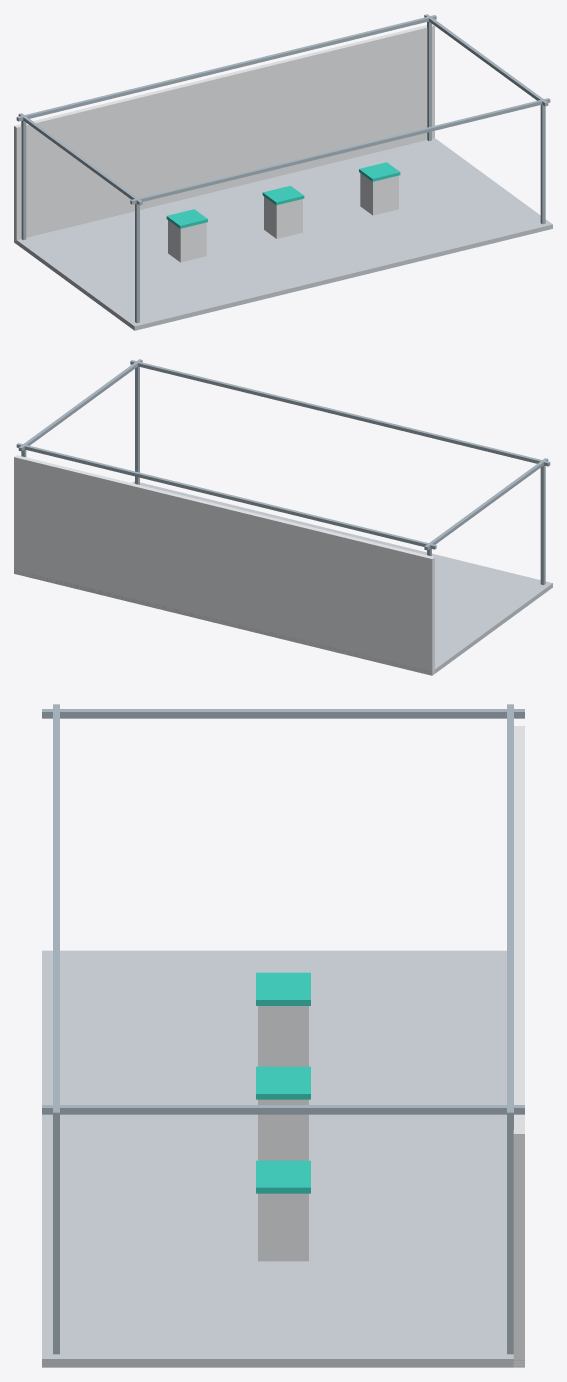
3 renders of one model, top to bottom at view 1: azimuth 30°, elevation 25°; view 2: azimuth 150°, elevation 25°; view 3: azimuth 270°, elevation 25°, orthographic. The views are drawn at different scales.
Visible parts, largest first — view 1: Exhibition Booth Concept; view 2: Exhibition Booth Concept; view 3: Exhibition Booth Concept.
Part boxes in pixels (x1,y1,x2,y2): Exhibition Booth Concept: (14,14,552,330); Exhibition Booth Concept: (14,359,552,675); Exhibition Booth Concept: (42,704,524,1367).
Size of the model in its own units: 12 by 3.49 by 6.
